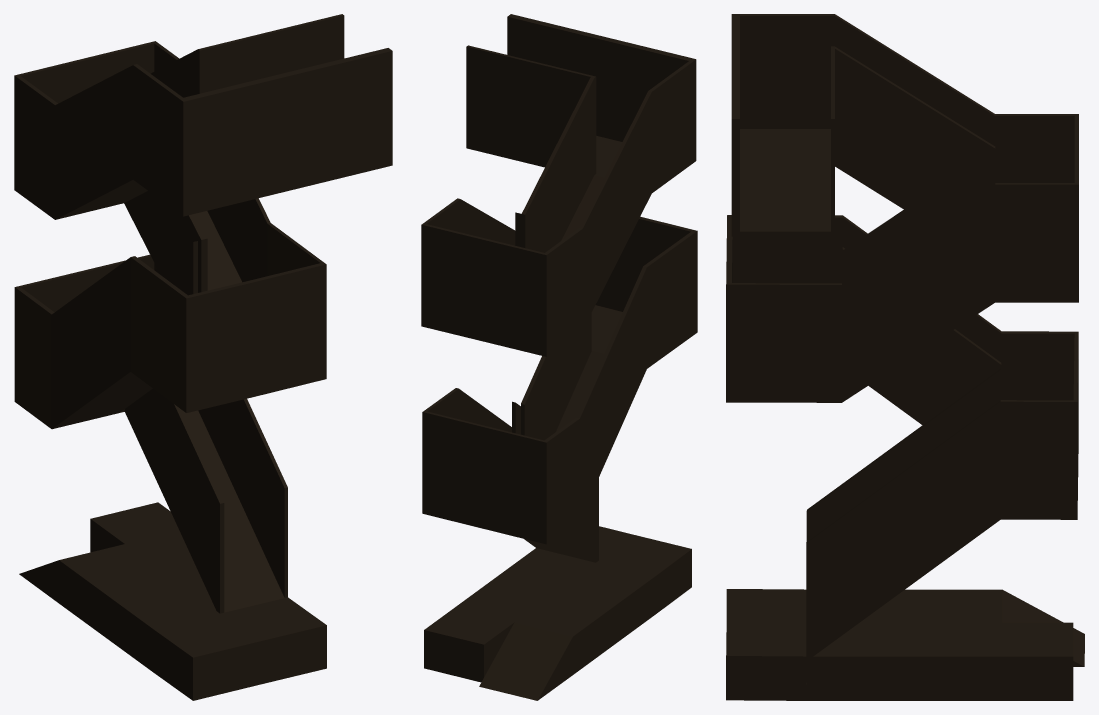
Rendered from Stairs hitbox.fbx.
3 renders of one model, left to right at view 1: azimuth 30°, elevation 25°; view 2: azimuth 150°, elevation 25°; view 3: azimuth 270°, elevation 25°, orthographic. The views are drawn at different scales.
Parts seen in each view (by area): view 1: hitbox stairs; view 2: hitbox stairs; view 3: hitbox stairs.
Part boxes in pixels (x1,y1,x2,y2): hitbox stairs: (14,14,392,700); hitbox stairs: (421,14,697,700); hitbox stairs: (726,14,1084,700).
Bounding box in the file's own units: 1024 × 2805 × 1479.
